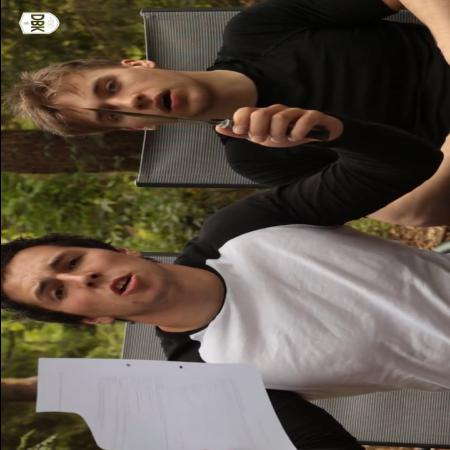long weapon: (69, 102, 342, 148)
